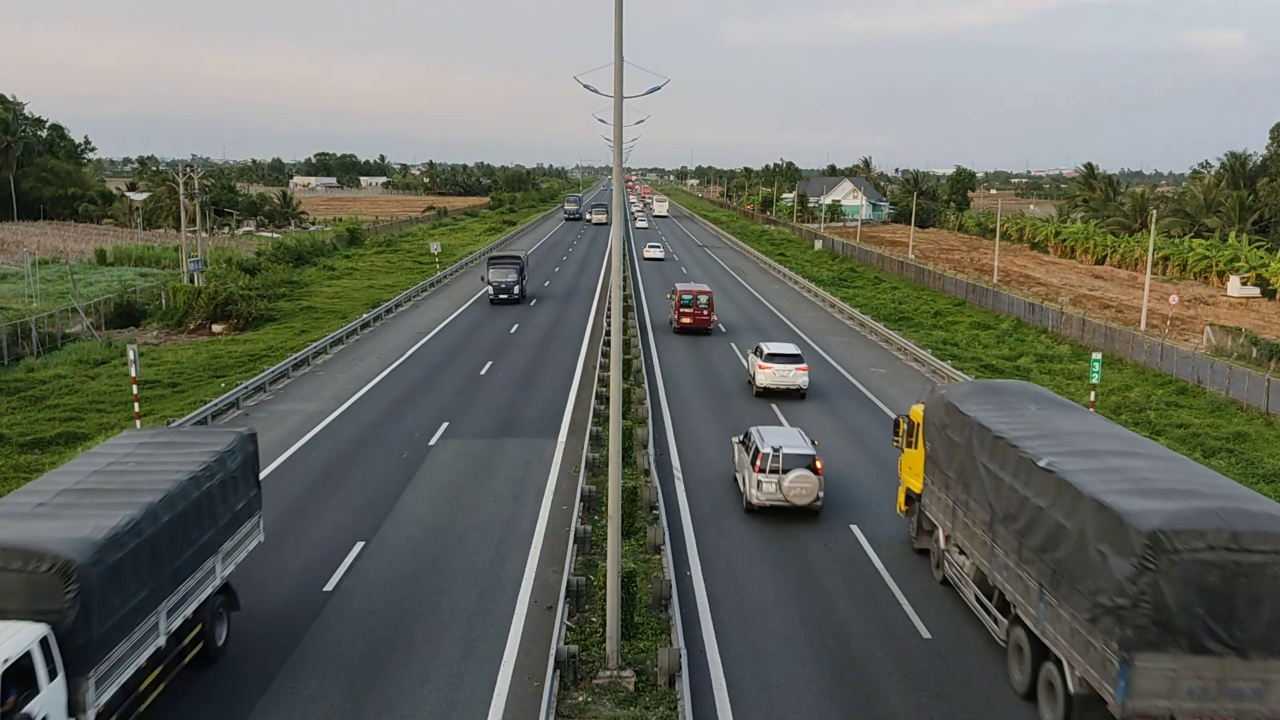car: (729, 415, 826, 516), (744, 341, 810, 399), (667, 280, 717, 339), (642, 240, 665, 260)
truck: (891, 379, 1279, 713), (1, 425, 265, 715), (481, 243, 530, 307)
